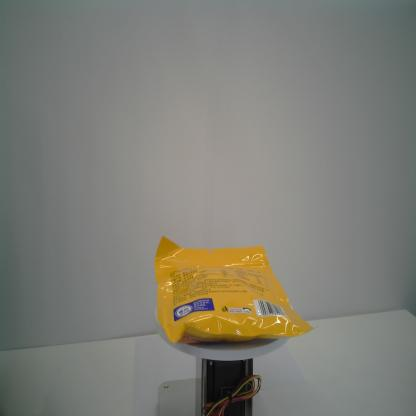Dried Fruit: (154, 235, 319, 344)
